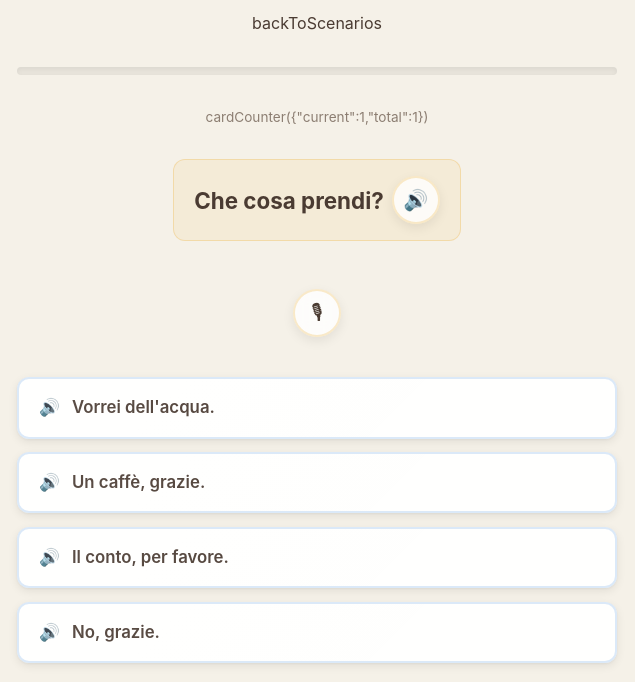
it: QAStudySession › shows scenarioDone screen after last card when another scenario has due cards
The image size is (635, 682).
Click the button "🔊 Un caffè, grazie.".
click(139, 482)  # box [17,452,617,513]
Wait 600 ms
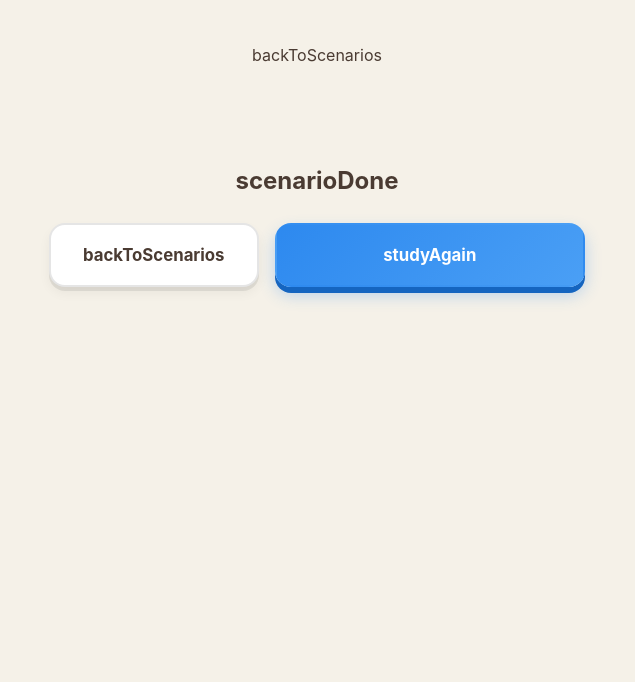
Result: the text "scenarioDone" is shown at [235,166,398,195]
